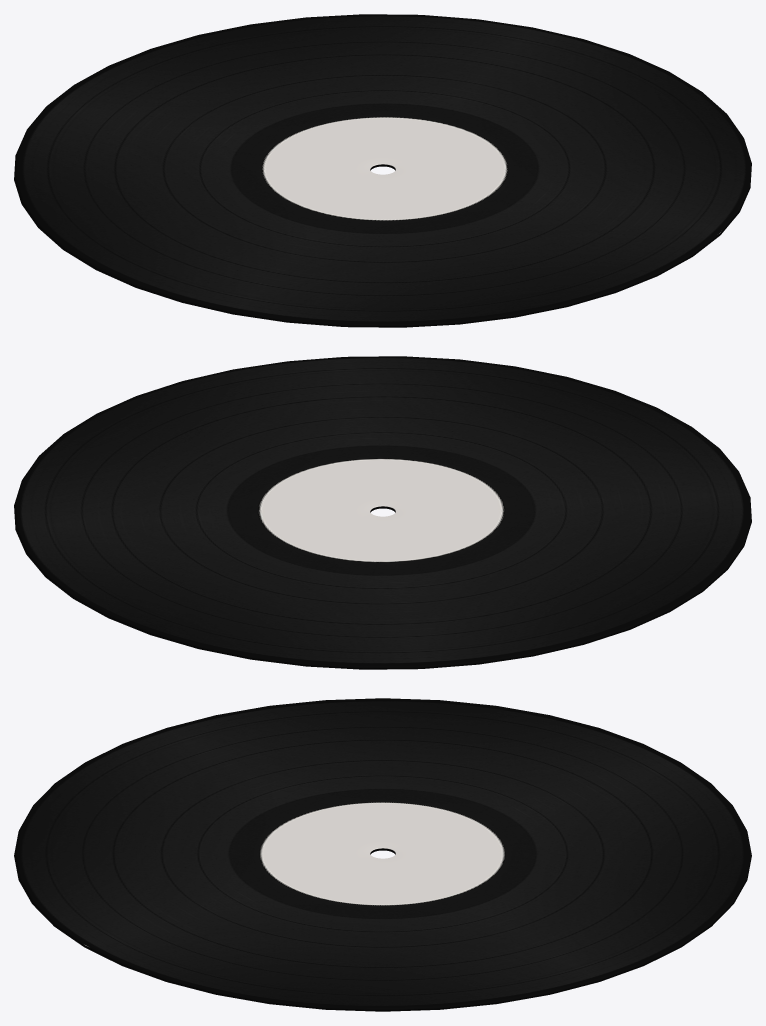
Rendered from vinyl_record.fbx.
The picture shows the model from 3 angles, top to bottom: view 1: azimuth 30°, elevation 25°; view 2: azimuth 150°, elevation 25°; view 3: azimuth 270°, elevation 25°; orthographic projection.
Visible parts, largest first — view 1: pCylinder1; view 2: pCylinder1; view 3: pCylinder1.
Part boxes in pixels (x1=…): pCylinder1: x1=14, y1=14, x2=751, y2=327; pCylinder1: x1=14, y1=356, x2=751, y2=669; pCylinder1: x1=14, y1=698, x2=751, y2=1011.
Bounding box in the file's own units: 60.21 × 0.482 × 60.21.
1 material, 1 textured.
